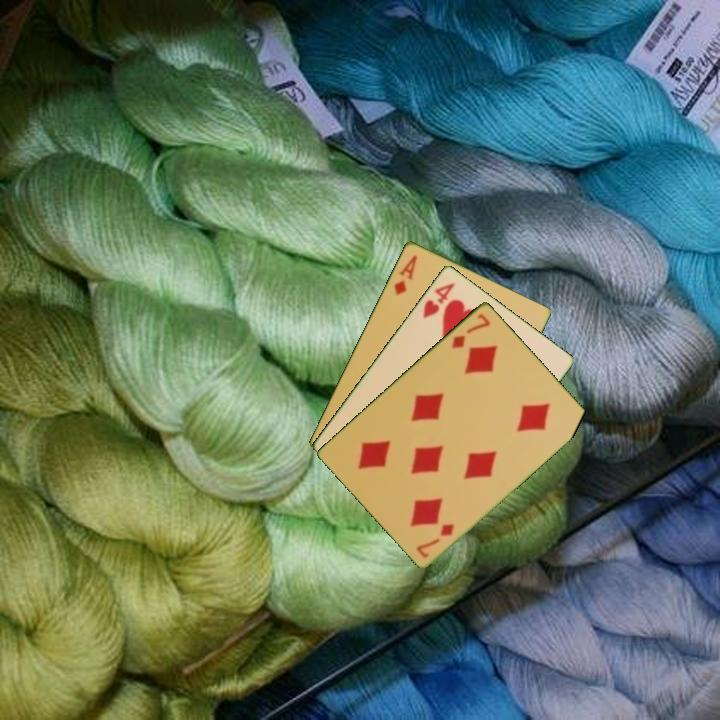4h: (419, 278, 458, 321)
7d: (448, 309, 493, 351), (413, 519, 457, 560)
Ad: (390, 251, 420, 298)
